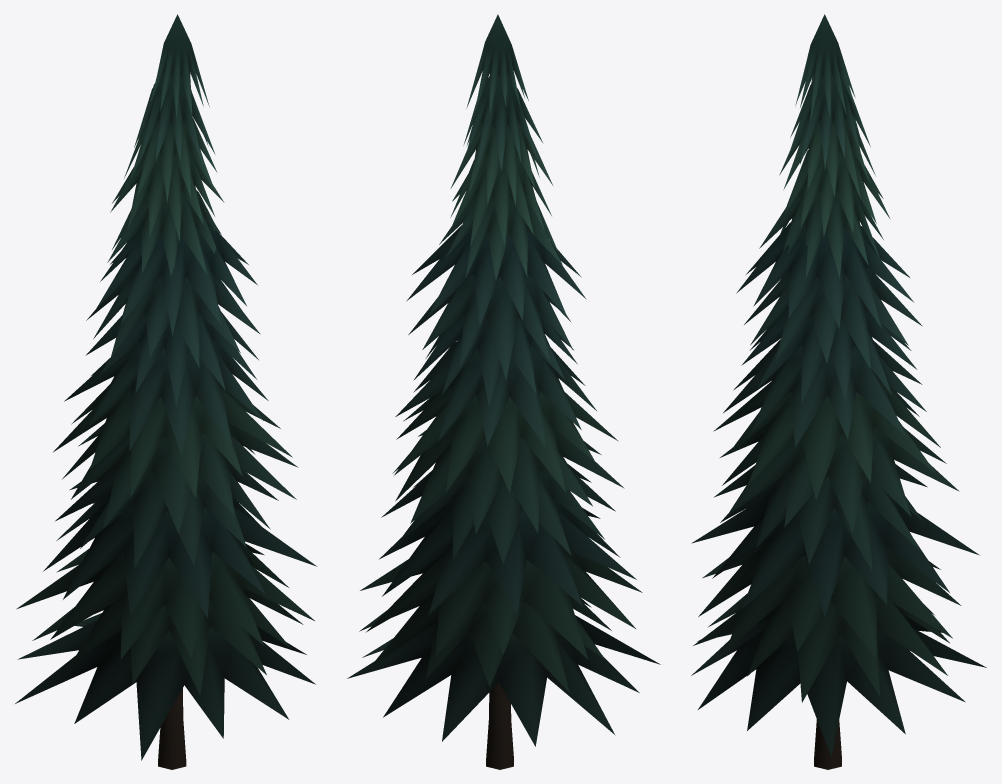
The picture shows the model from 3 angles, left to right: view 1: azimuth 30°, elevation 25°; view 2: azimuth 150°, elevation 25°; view 3: azimuth 270°, elevation 25°; orthographic projection.
Parts seen in each view (by area): view 1: TR_SpruceBlue; view 2: TR_SpruceBlue; view 3: TR_SpruceBlue.
Boxes of the visible parts, <box> form: TR_SpruceBlue: <box>15,14,317,769</box>; TR_SpruceBlue: <box>347,14,660,769</box>; TR_SpruceBlue: <box>691,14,986,769</box>.
Size of the model in its own units: 7.81 by 20.37 by 7.31.
